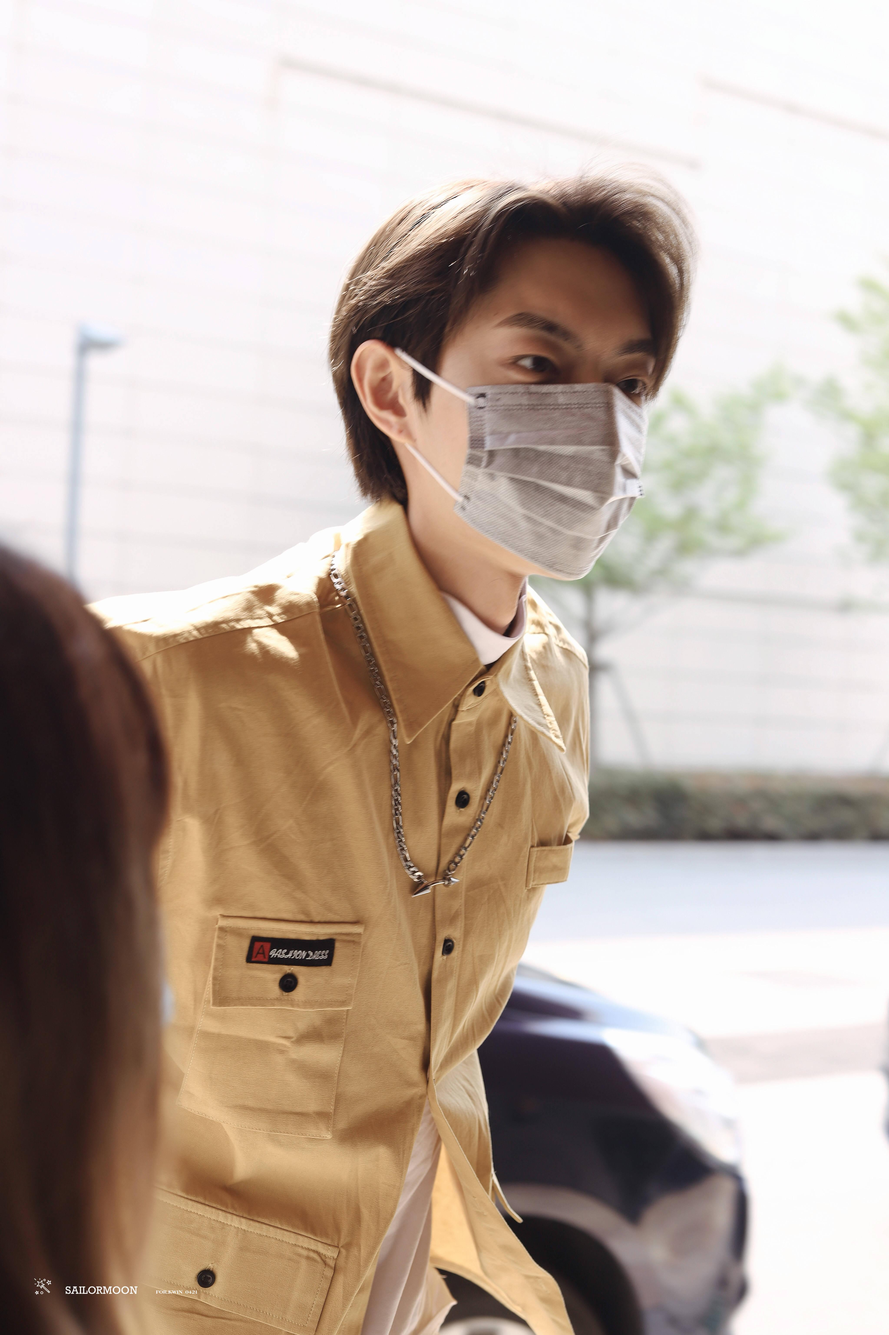OK: (448, 287, 654, 581)
